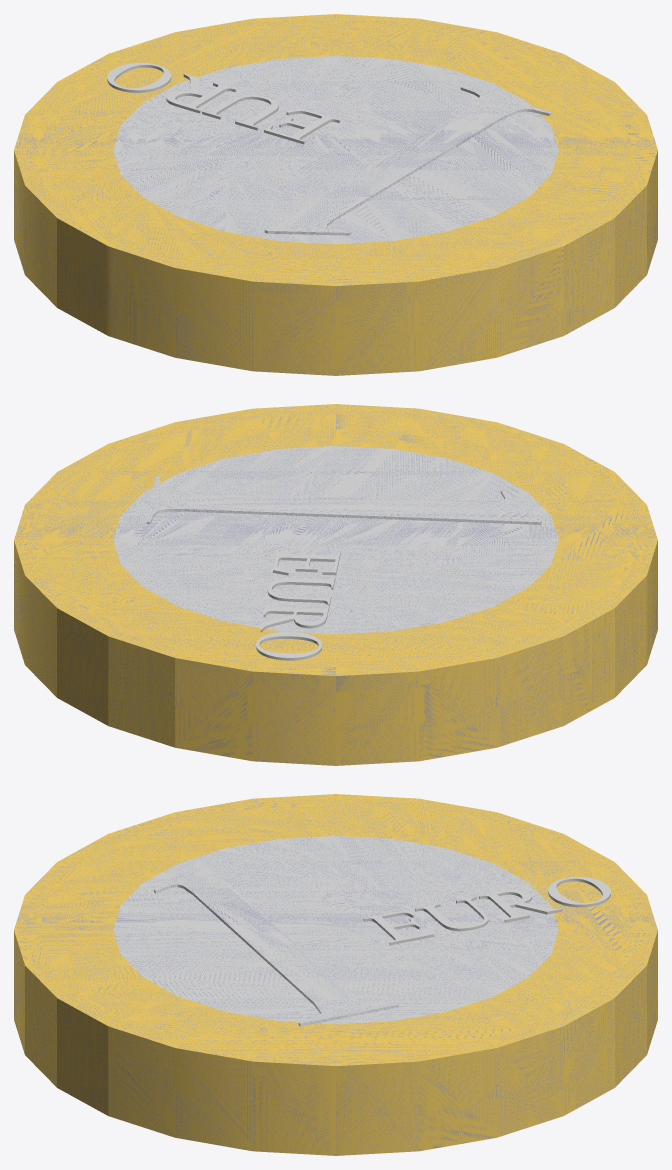
3 views of the same model, one above another, from view 1: azimuth 30°, elevation 25°; view 2: azimuth 150°, elevation 25°; view 3: azimuth 270°, elevation 25° (orthographic).
Visible parts, largest first — view 1: SketchUp (×5), EURO (×4); view 2: SketchUp (×5), EURO (×4); view 3: SketchUp (×5), EURO (×4).
Boxes of the visible parts, left/top/right/bottom form: SketchUp (×5): left=14, top=14, right=657, bottom=375; EURO (×4): left=107, top=62, right=340, bottom=144; SketchUp (×5): left=14, top=404, right=657, bottom=765; EURO (×4): left=256, top=549, right=340, bottom=660; SketchUp (×5): left=14, top=794, right=657, bottom=1155; EURO (×4): left=363, top=877, right=610, bottom=945.
Size of the model in its own units: 1.62 by 1.62 by 0.2574.
